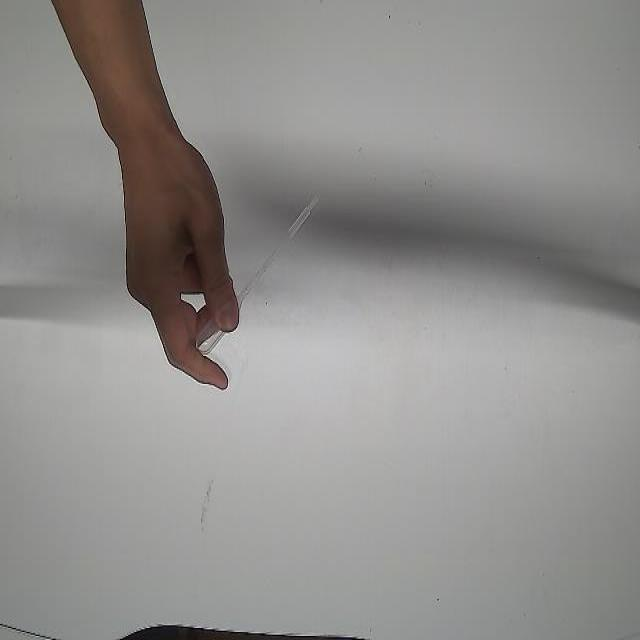Disposable Pasteur Pipette: (194, 183, 328, 357)
